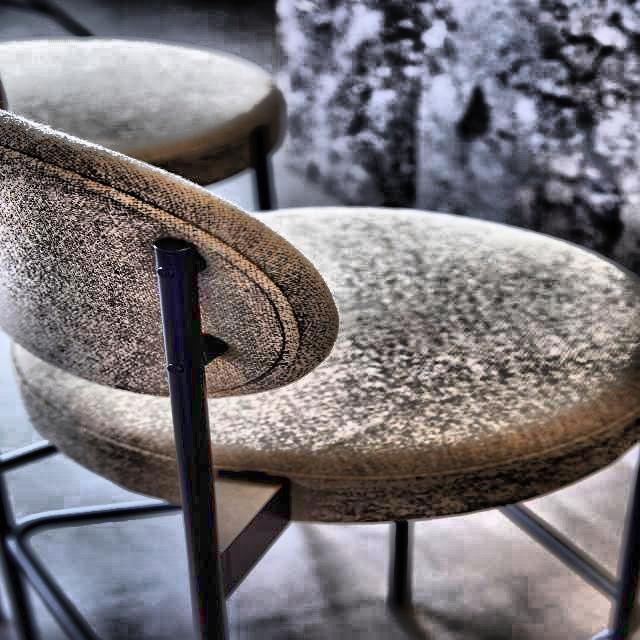cadeira: (0, 93, 640, 640), (0, 98, 640, 454), (0, 0, 307, 203)
